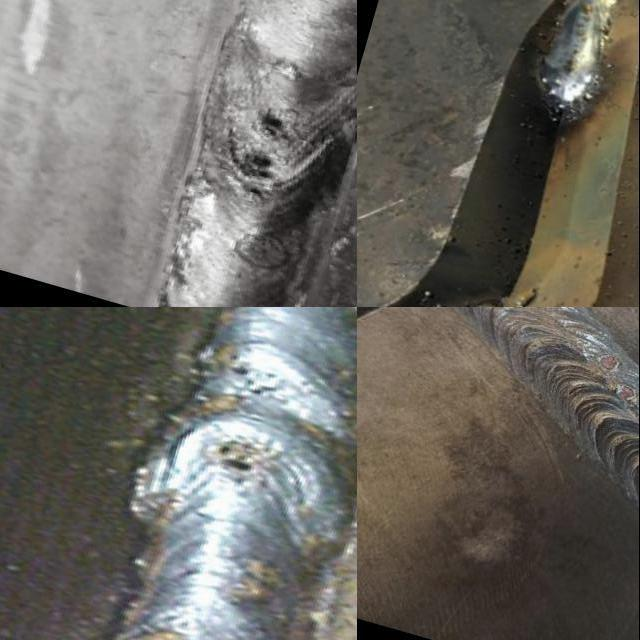defect: (222, 144, 287, 206), (213, 356, 282, 405), (246, 105, 302, 146), (209, 440, 264, 480), (608, 380, 638, 403), (595, 351, 620, 375)
